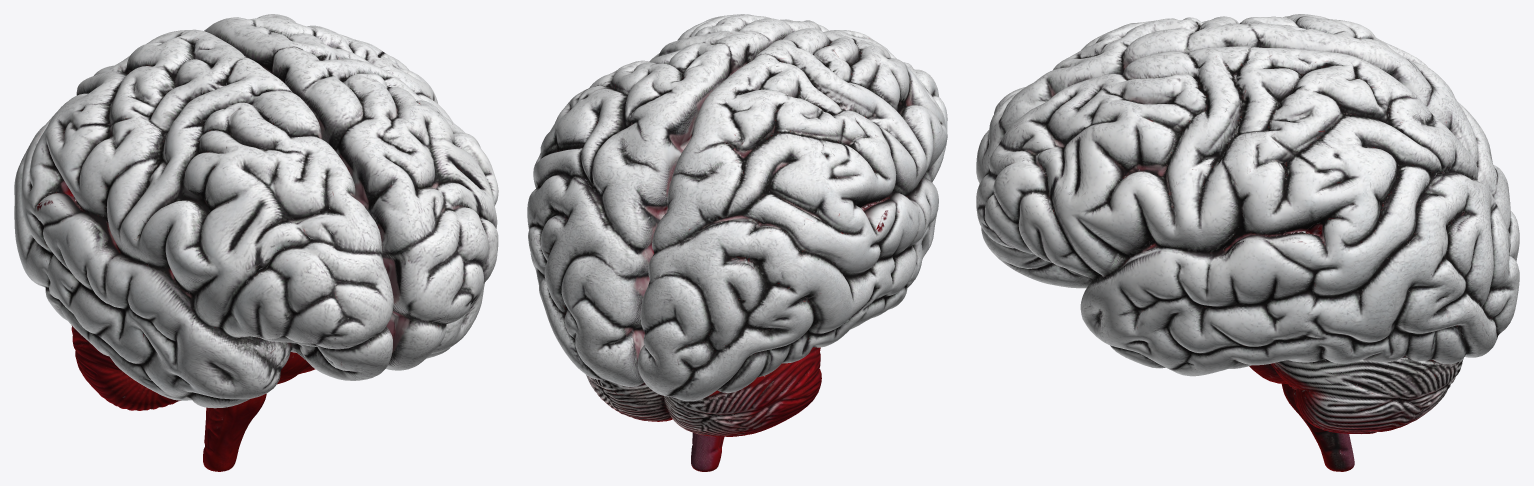
Rendered from brain.glb.
3 views of the same model, side by side, from view 1: azimuth 30°, elevation 25°; view 2: azimuth 150°, elevation 25°; view 3: azimuth 270°, elevation 25° (orthographic). The views are drawn at different scales.
Visible parts, largest first — view 1: Mesh1.0; view 2: Mesh1.0; view 3: Mesh1.0.
Boxes of the visible parts, x1,y1,x2,y2 form: Mesh1.0: [14, 14, 498, 471]; Mesh1.0: [527, 14, 947, 471]; Mesh1.0: [976, 14, 1519, 471].
Bounding box in the file's own units: 9.18 × 10 × 11.46.
1 material, 1 textured.
